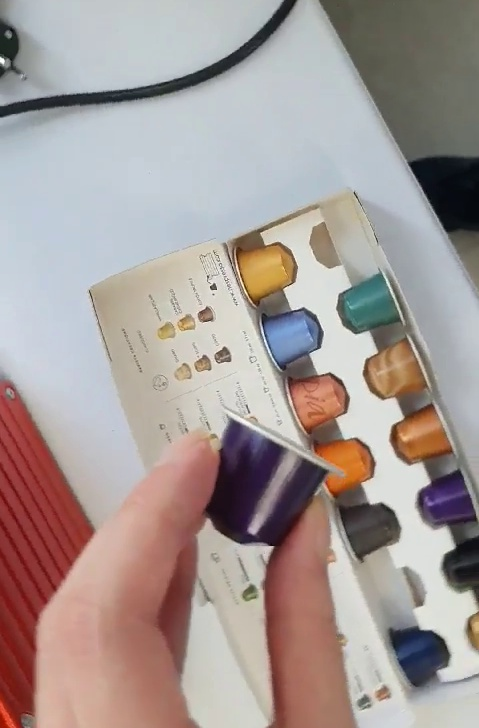capsule_2: (193, 410, 350, 550)
